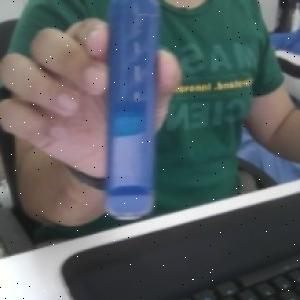Diamond-E-Ciggirate: (101, 2, 160, 224)
